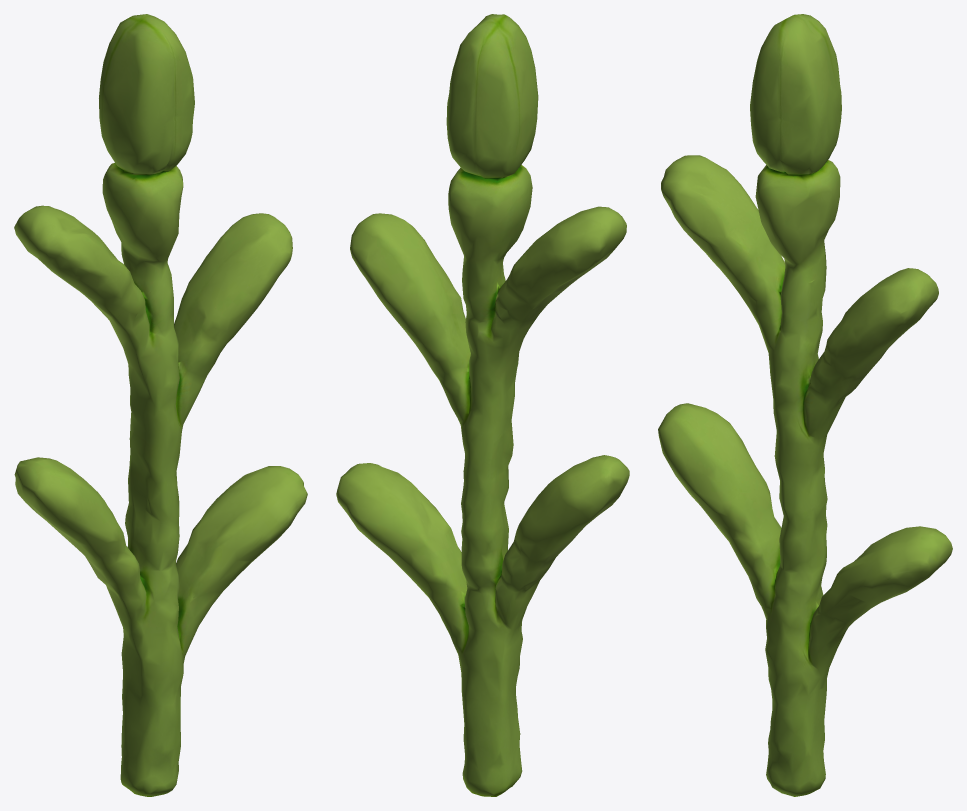
Rendered from lavender_s2.glb.
3 renders of one model, left to right at view 1: azimuth 30°, elevation 25°; view 2: azimuth 150°, elevation 25°; view 3: azimuth 330°, elevation 25°, orthographic.
Visible parts, largest first — view 1: tripo_node_ca029153-9202-4a23-9a53-69ddab6eedd0; view 2: tripo_node_ca029153-9202-4a23-9a53-69ddab6eedd0; view 3: tripo_node_ca029153-9202-4a23-9a53-69ddab6eedd0.
Part boxes in pixels (<box>): tripo_node_ca029153-9202-4a23-9a53-69ddab6eedd0: <box>14,14,307,796</box>; tripo_node_ca029153-9202-4a23-9a53-69ddab6eedd0: <box>336,14,629,796</box>; tripo_node_ca029153-9202-4a23-9a53-69ddab6eedd0: <box>658,14,952,796</box>.
Size of the model in its own units: 0.3736 by 1 by 0.1136.
Materials: 1 (1 with a texture image).
